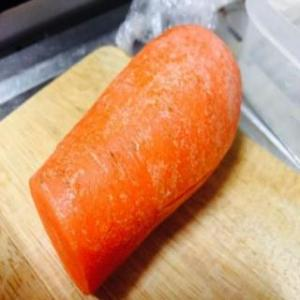carrot: (27, 22, 243, 300)
